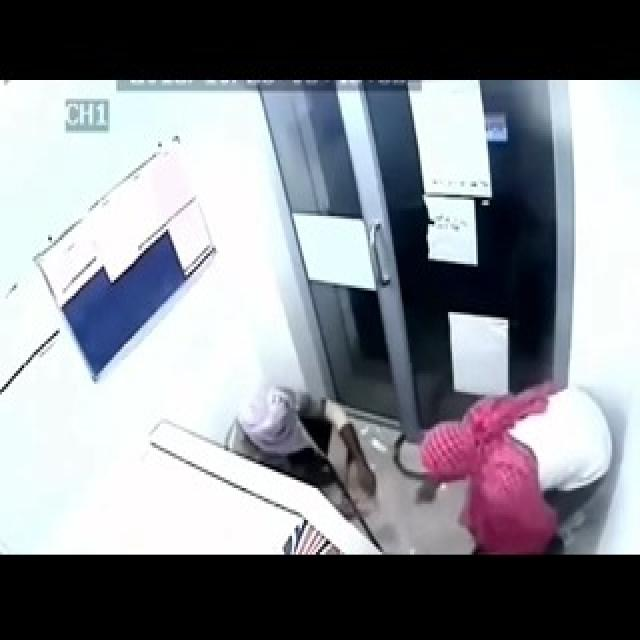thief: (419, 407, 578, 556), (236, 389, 335, 503)
